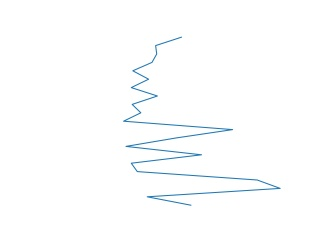crevasseRiverBedLagDeposit: (119, 35, 285, 210)
